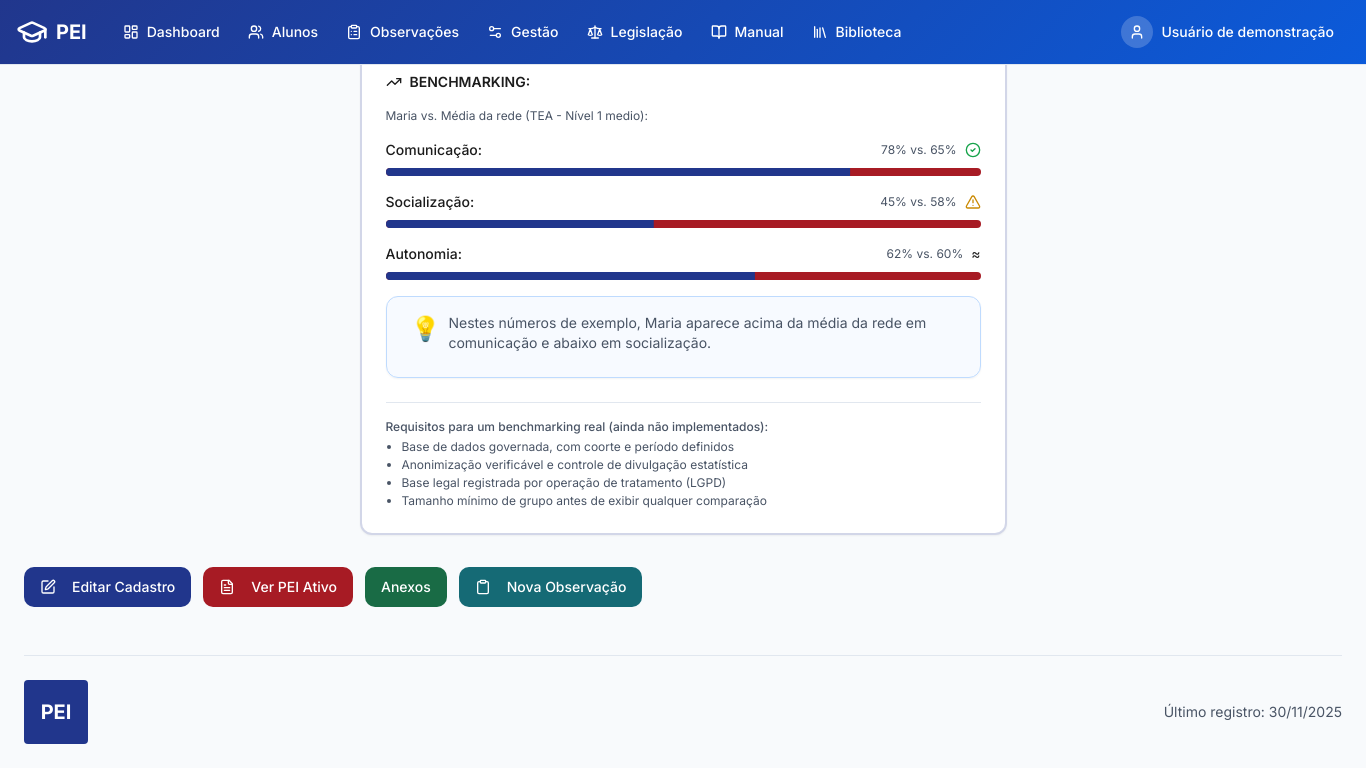
Test: Ver PEI: o plano é do estudante aberto › a aba Objetivos mostra as metas por área, com a nota e a evidência que ela cita
The width and height of the screenshot is (1366, 768).
(page scrolled)
Click the button "Ver PEI Ativo".
click(278, 587)  # box [203,567,353,607]
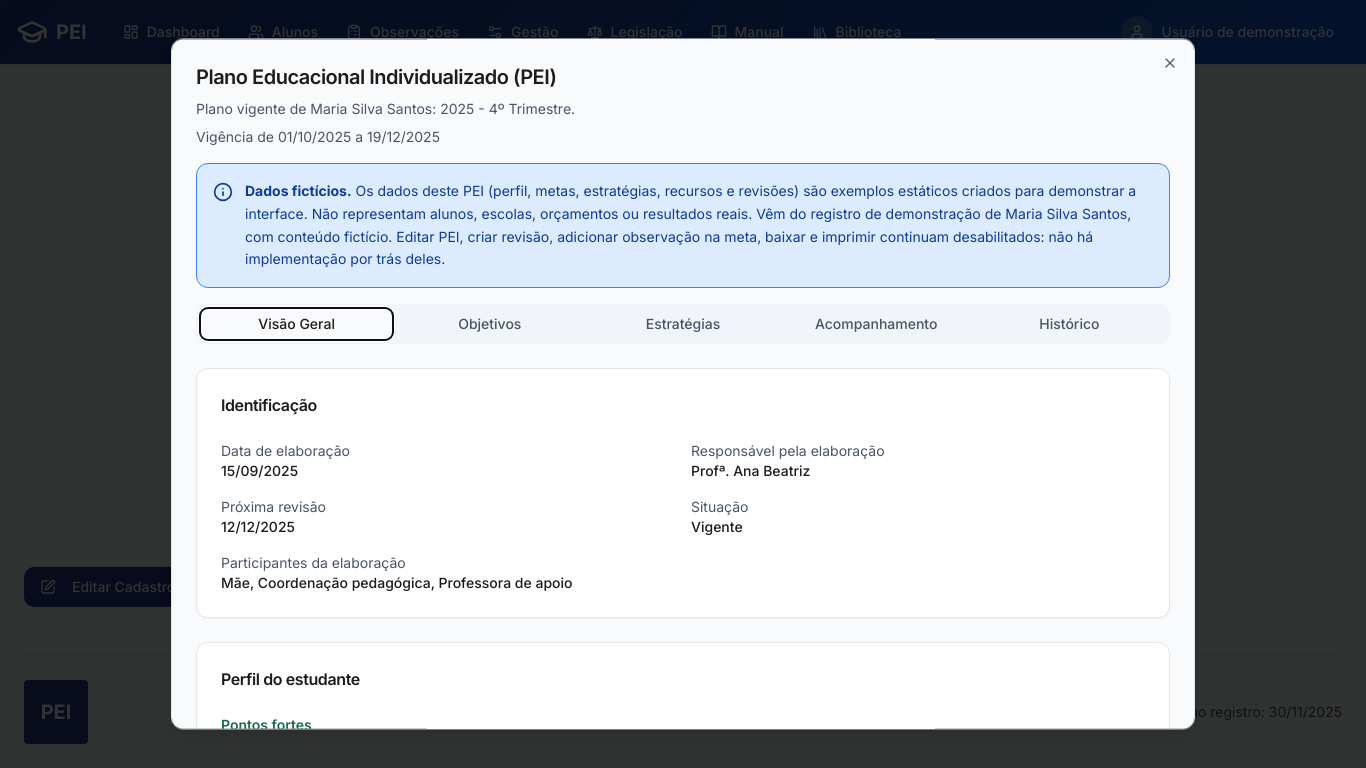
Expected: the text "Reconhecer e ler palavras do vocabulário funcional" is not shown
Click the tab "Objetivos".
click(490, 324)  # box [393,308,586,340]
(page scrolled)
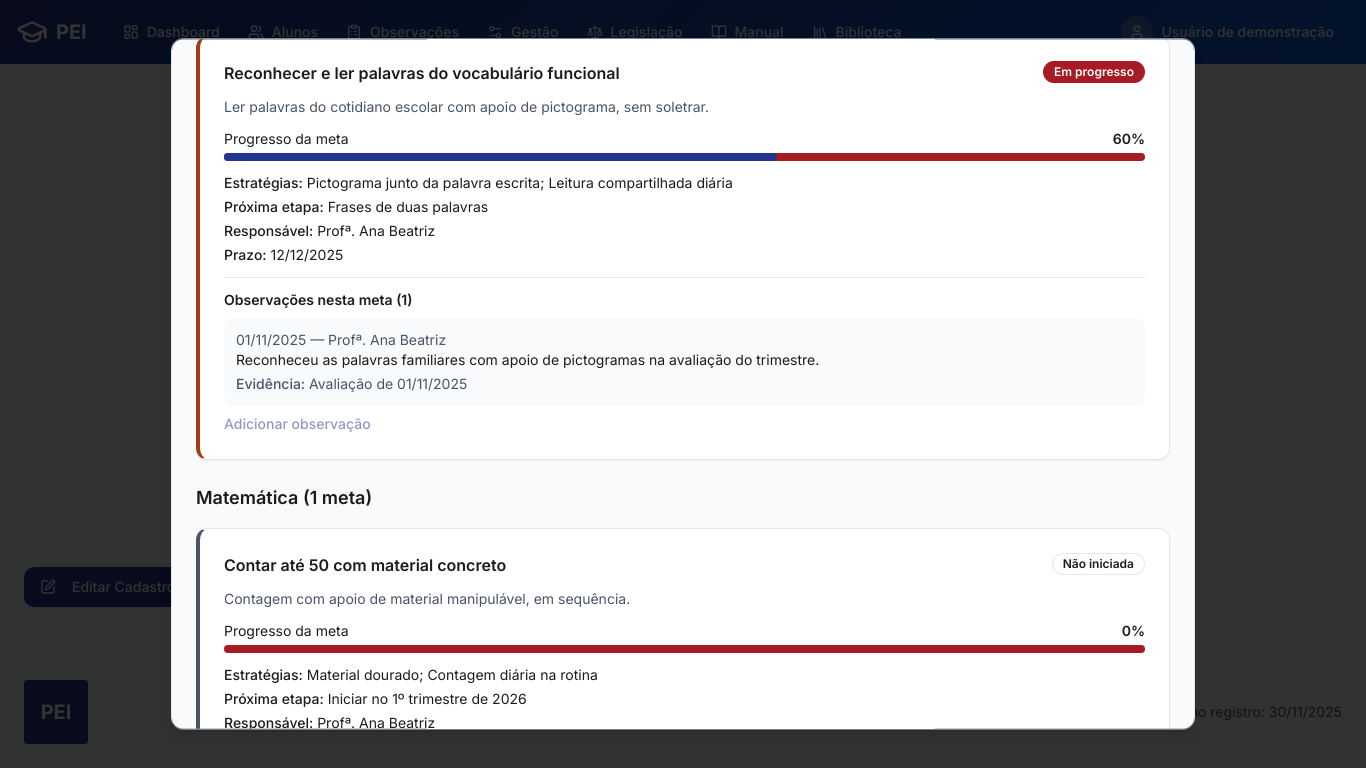
Expected: the heading "Reconhecer e ler palavras do vocabulário funcional" is shown, [224,61,620,85]
Expected: the text "Em progresso" is shown, [1043,61,1145,83]
Expected: the text "Não iniciada" is shown, [1052,553,1145,575]
